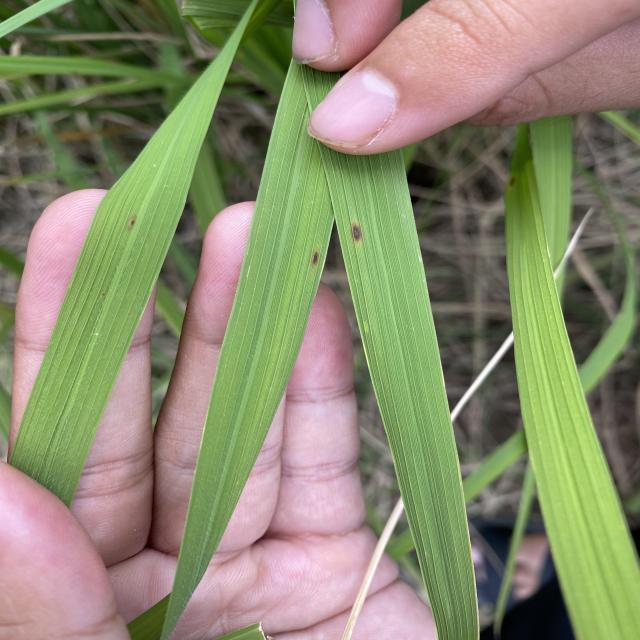Dom nau: (350, 220, 364, 246), (309, 247, 320, 271), (127, 213, 137, 232)
